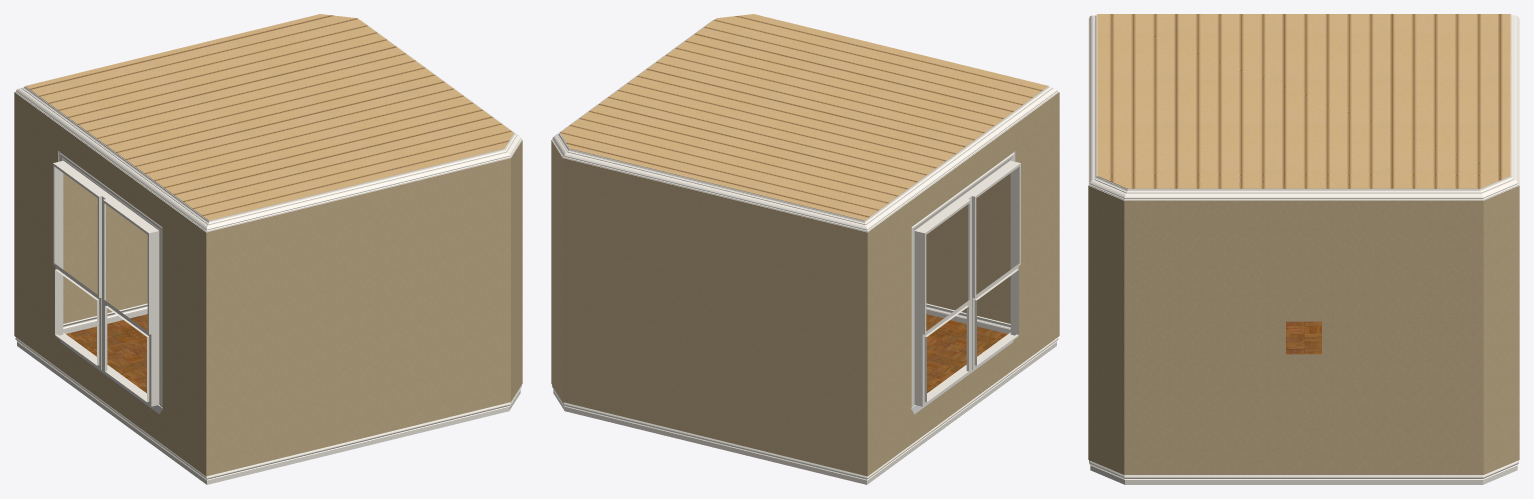
The model's file is resume-house.obj.
3 renders of one model, left to right at view 1: azimuth 30°, elevation 25°; view 2: azimuth 150°, elevation 25°; view 3: azimuth 270°, elevation 25°, orthographic. The views are drawn at different scales.
Parts seen in each view (by area): view 1: Mesh1 Model; view 2: Mesh1 Model; view 3: Mesh1 Model.
Boxes of the visible parts, bbox=[...] form: Mesh1 Model: bbox=[14, 14, 522, 484]; Mesh1 Model: bbox=[551, 14, 1059, 484]; Mesh1 Model: bbox=[1088, 14, 1519, 484].
Bounding box in the file's own units: 3.76 × 2.74 × 3.66.
Materials: 5 (3 with a texture image).
